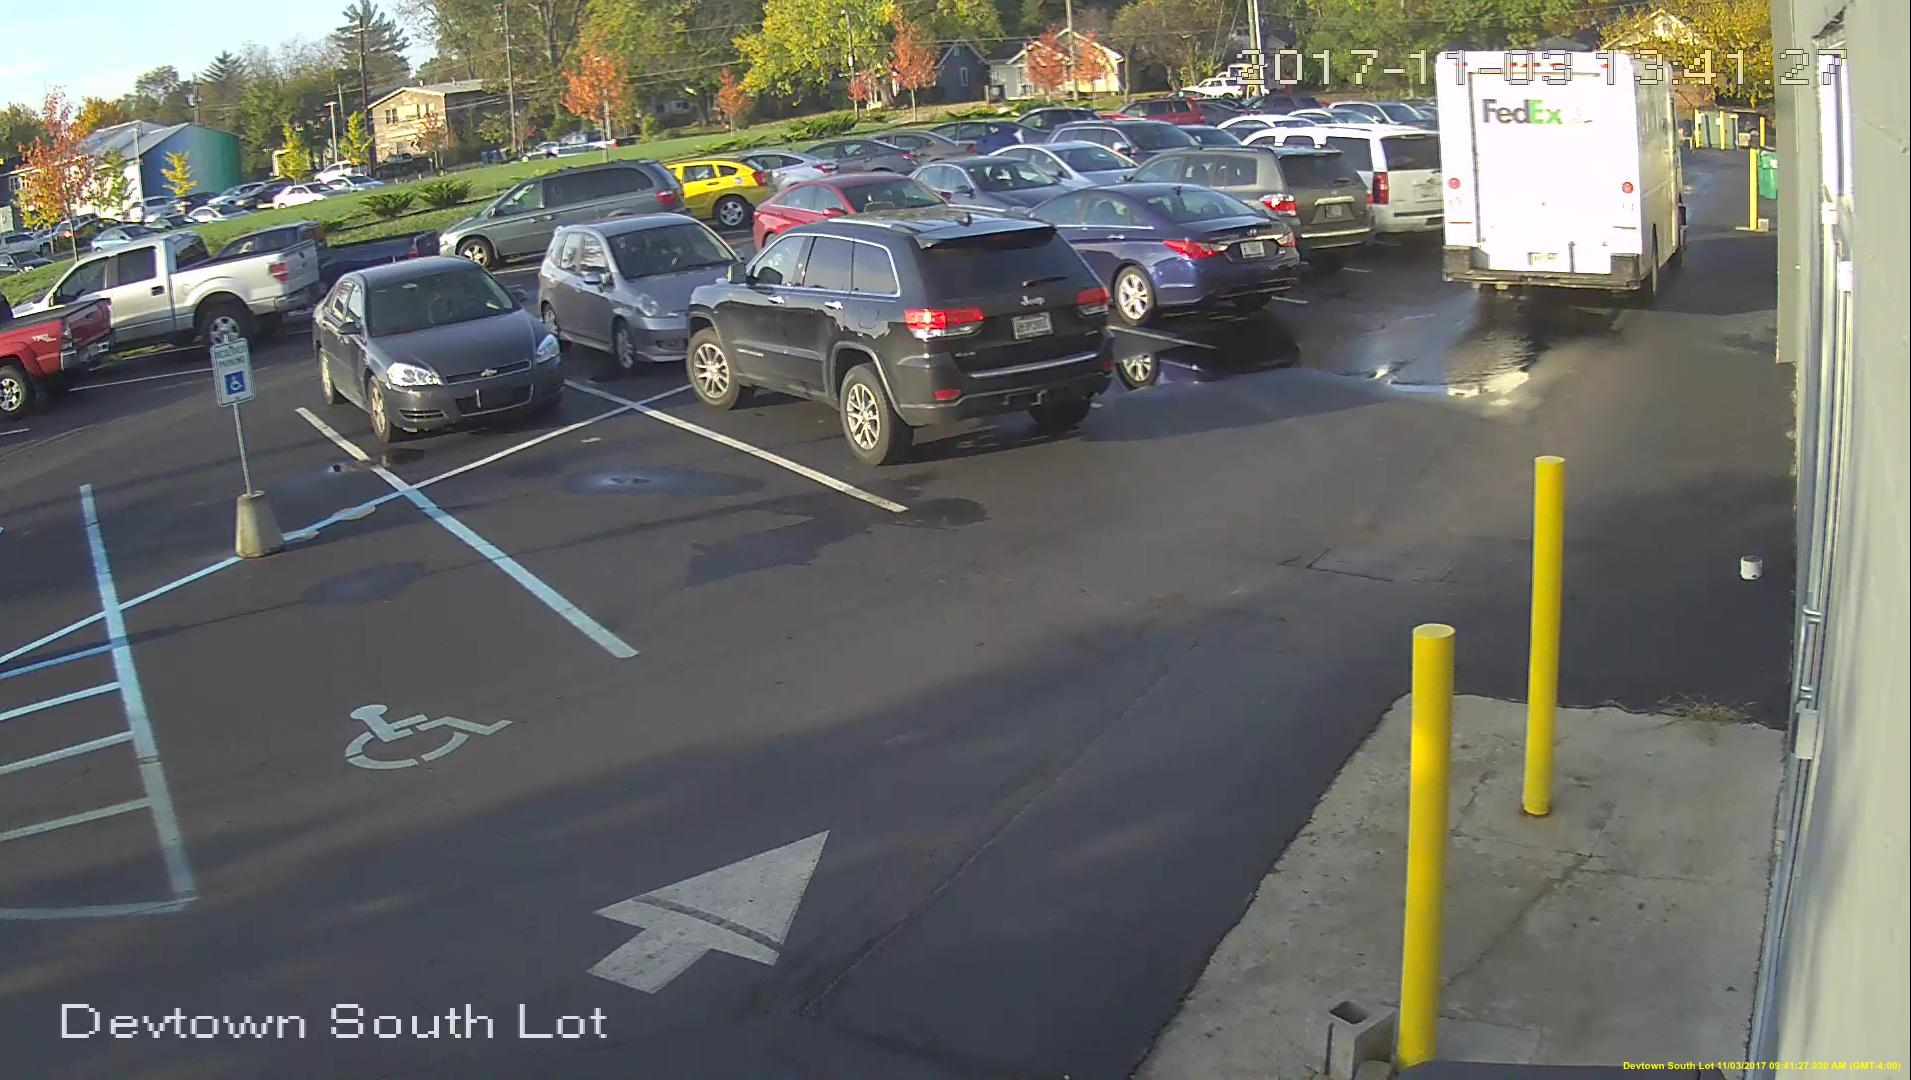fedex_truck: (1433, 46, 1683, 301)
